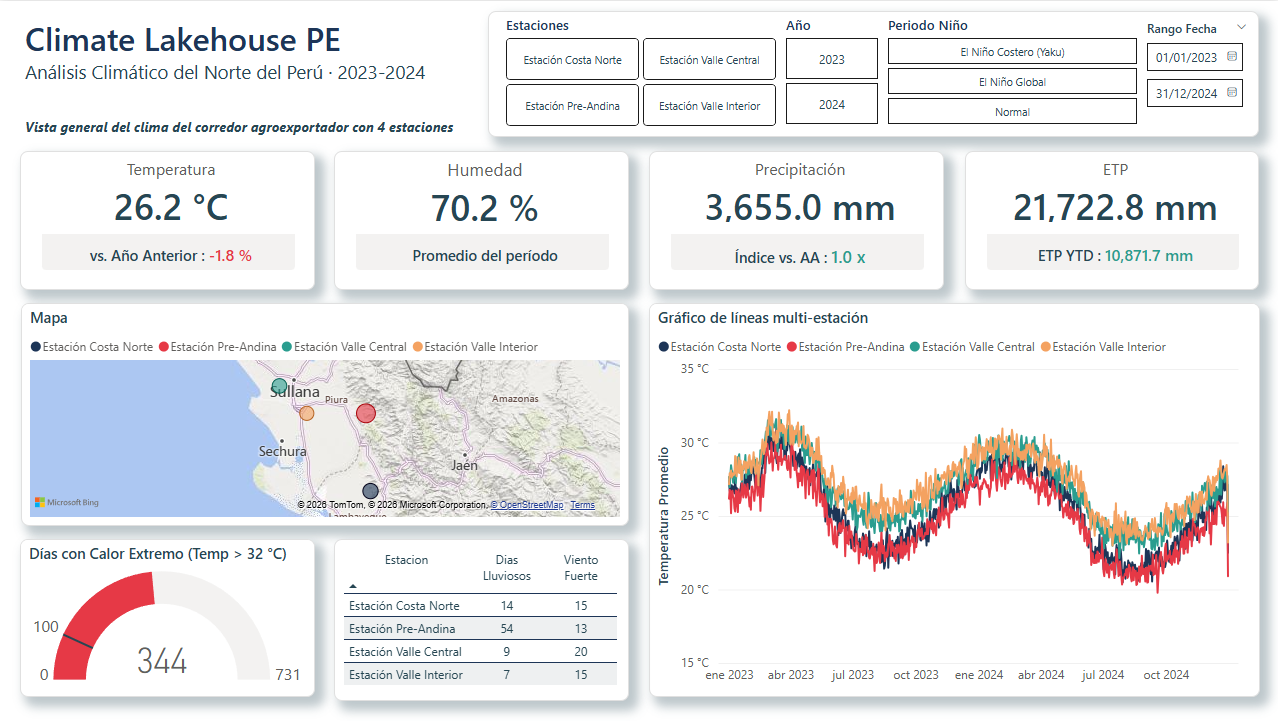

This screenshot's page, from the dashboard's own definition file:
{"tool":"powerbi","page":{"name":"Overview","canvas":[1280,720],"ordinal":0},"visuals":[{"type":"shape","box":[489.2,10,770.7,125.7],"z":0},{"type":"textbox","box":[21,10,461.9,141.2],"z":1000},{"type":"advancedSlicerVisual","title":"Estaciones","fields":{"Values":["dim_station.station_name"]},"box":[502,15.5,279.7,114.8],"z":2000},{"type":"slicer","fields":{"Values":["dim_date.date_local"]},"box":[1135,14.5,125.5,114.8],"z":3000},{"type":"listSlicer","fields":{"Values":["dim_date.year"]},"box":[781.7,14.6,102,114.8],"z":4000},{"type":"listSlicer","fields":{"Values":["dim_date.enso_period"]},"box":[883.7,15.5,259.6,114.8],"z":5000},{"type":"cardVisual","fields":{"Data":["fact_daily_summary.Temp Promedio"]},"box":[21,150.3,295.2,138.5],"z":6000},{"type":"cardVisual","fields":{"Data":["fact_daily_summary.Humedad Promedio"]},"box":[335.3,150.3,295.2,138.5],"z":7000},{"type":"cardVisual","fields":{"Data":["fact_daily_summary.Precipitación Acumulada"]},"box":[650.5,150.3,294.3,138.5],"z":8000},{"type":"cardVisual","fields":{"Data":["fact_daily_summary.ETP Acumulada"]},"box":[965.7,150.3,294.3,138.5],"z":9000},{"type":"map","title":"Mapa","fields":{"Y":["dim_station.latitude"],"X":["dim_station.longitude"],"Series":["dim_station.station_name"],"Size":["fact_daily_summary.Precipitación Acumulada"]},"box":[21.9,302.5,608.6,222.3],"z":10000},{"type":"gauge","title":"Días con Calor Extremo (Temp > 32 °C)","fields":{"Y":["_medidas.Días con Calor Extremo (Promedio por Estación)"],"MaxValue":["_medidas.Días Calendario"]},"box":[21,537.5,295.2,158.5],"z":11000},{"type":"lineChart","title":"Gráfico de líneas multi-estación","fields":{"Category":["dim_date.date_local"],"Y":["fact_daily_summary.Temp Promedio"],"Series":["dim_station.station_name"]},"box":[650.5,302.5,610.4,393.6],"z":12000},{"type":"tableEx","fields":{"Values":["dim_station.station_name","fact_daily_summary.Días Lluviosos","fact_daily_summary.Días con Vientos Fuertes"]},"box":[335.3,537.5,294.3,162.2],"z":13000}]}

Visuals, with their boxes in screenshot pixels (x1, y1, x2, y2), scaled from the page's 1280x720 canvas onto the 1278x721 screenshot:
shape: [488,10,1258,136]
textbox: [21,10,482,151]
"Estaciones" advancedSlicerVisual: [501,16,780,130]
slicer - dim_date.date_local: [1133,15,1259,129]
listSlicer - dim_date.year: [780,15,882,130]
listSlicer - dim_date.enso_period: [882,16,1142,130]
cardVisual - fact_daily_summary.Temp Promedio: [21,151,316,289]
cardVisual - fact_daily_summary.Humedad Promedio: [335,151,630,289]
cardVisual - fact_daily_summary.Precipitación Acumulada: [649,151,943,289]
cardVisual - fact_daily_summary.ETP Acumulada: [964,151,1258,289]
"Mapa" map: [22,303,630,526]
"Días con Calor Extremo (Temp > 32 °C)" gauge: [21,538,316,697]
"Gráfico de líneas multi-estación" lineChart: [649,303,1259,697]
tableEx - dim_station.station_name x fact_daily_summary.Días Lluviosos: [335,538,629,701]
